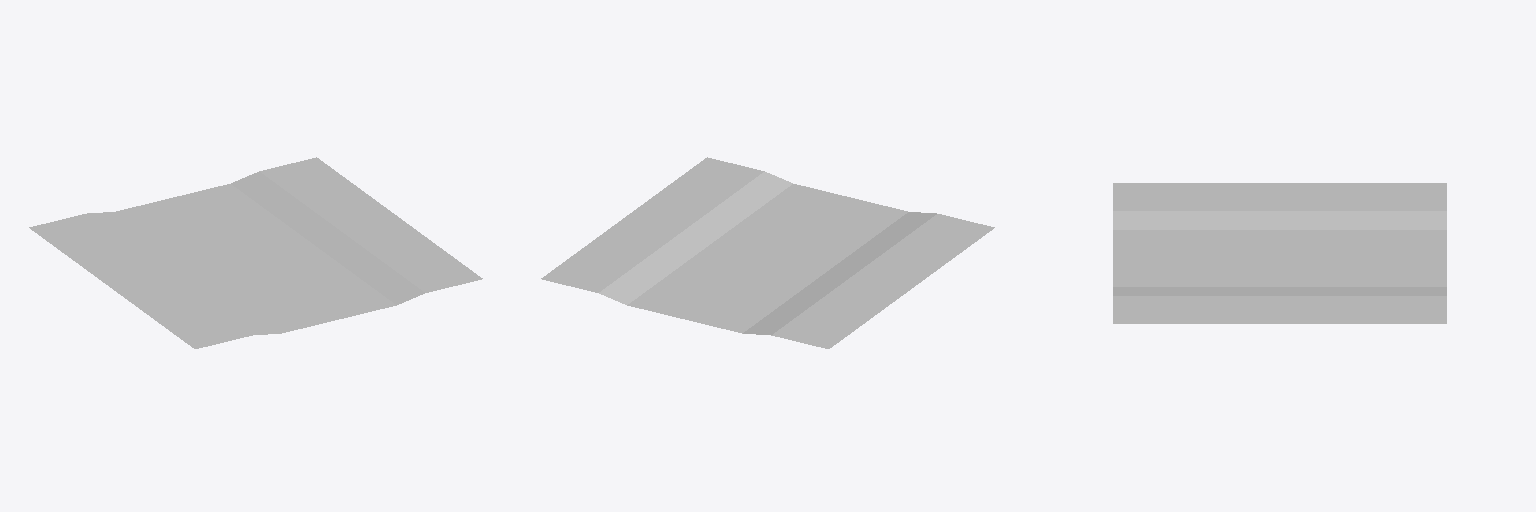
The model's file is path_straight.obj.
3 renders of one model, left to right at view 1: azimuth 30°, elevation 25°; view 2: azimuth 150°, elevation 25°; view 3: azimuth 270°, elevation 25°, orthographic.
Visible parts, largest first — view 1: ground_straightPath_geo; view 2: ground_straightPath_geo; view 3: ground_straightPath_geo.
Boxes of the visible parts, box(x1,y1,x2,y2) form: ground_straightPath_geo: box(29, 157, 482, 348); ground_straightPath_geo: box(541, 157, 994, 348); ground_straightPath_geo: box(1113, 183, 1446, 323).
Size of the model in its own units: 6 by 0.1031 by 6.